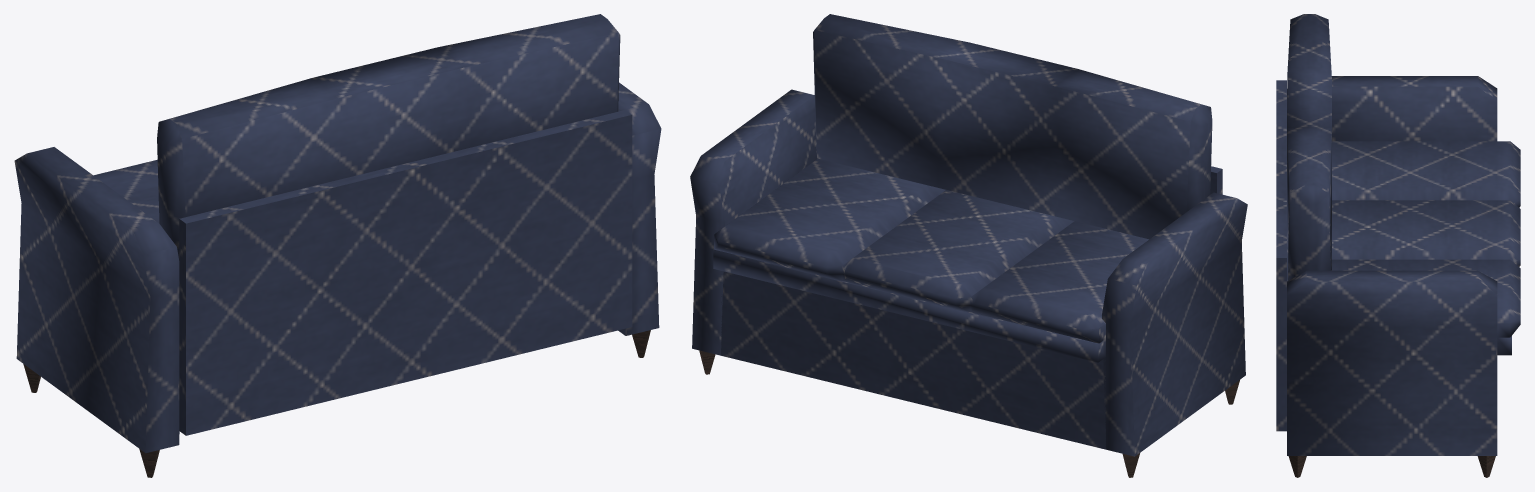
The model's file is sofa4.glb.
3 views of the same model, side by side, from view 1: azimuth 30°, elevation 25°; view 2: azimuth 150°, elevation 25°; view 3: azimuth 270°, elevation 25° (orthographic). The views are drawn at different scales.
Parts seen in each view (by area): view 1: CushionsHorizontal.005, CushionsHorizontal.001; view 2: CushionsHorizontal.005, CushionsHorizontal.001; view 3: CushionsHorizontal.005, CushionsHorizontal.001.
Part boxes in pixels (box(x1,y1,x2,y2)): CushionsHorizontal.005: box(14, 14, 661, 453); CushionsHorizontal.001: box(23, 330, 650, 477); CushionsHorizontal.005: box(690, 14, 1247, 456); CushionsHorizontal.001: box(699, 350, 1239, 477); CushionsHorizontal.005: box(1276, 14, 1520, 455); CushionsHorizontal.001: box(1288, 456, 1495, 477).
Bounding box in the file's own units: 2.32 × 1.47 × 1.16.
Materials: 2 (2 with a texture image).
